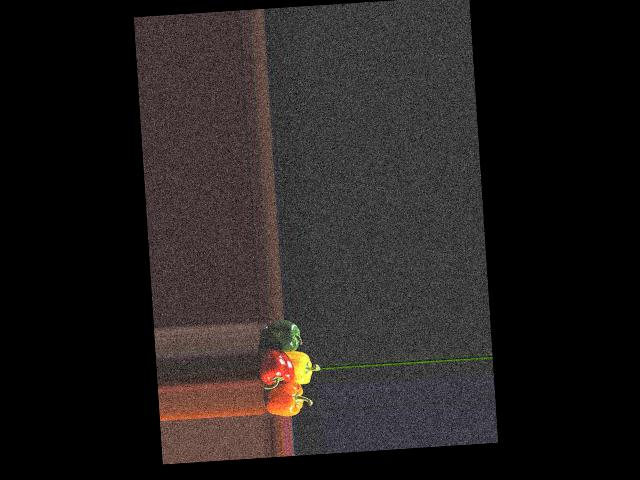bell_pepper: (258, 380, 309, 418)
